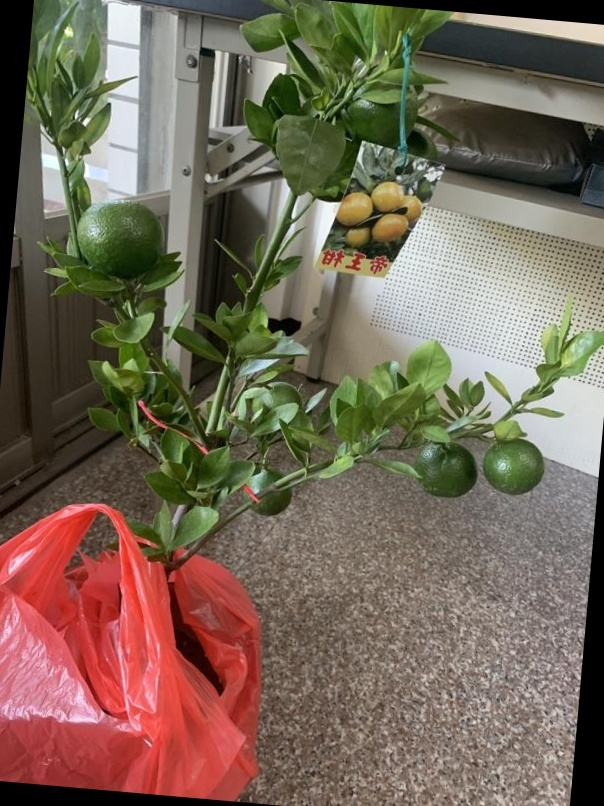Tangerine: (75, 194, 166, 282), (411, 437, 477, 497), (486, 436, 544, 497)
